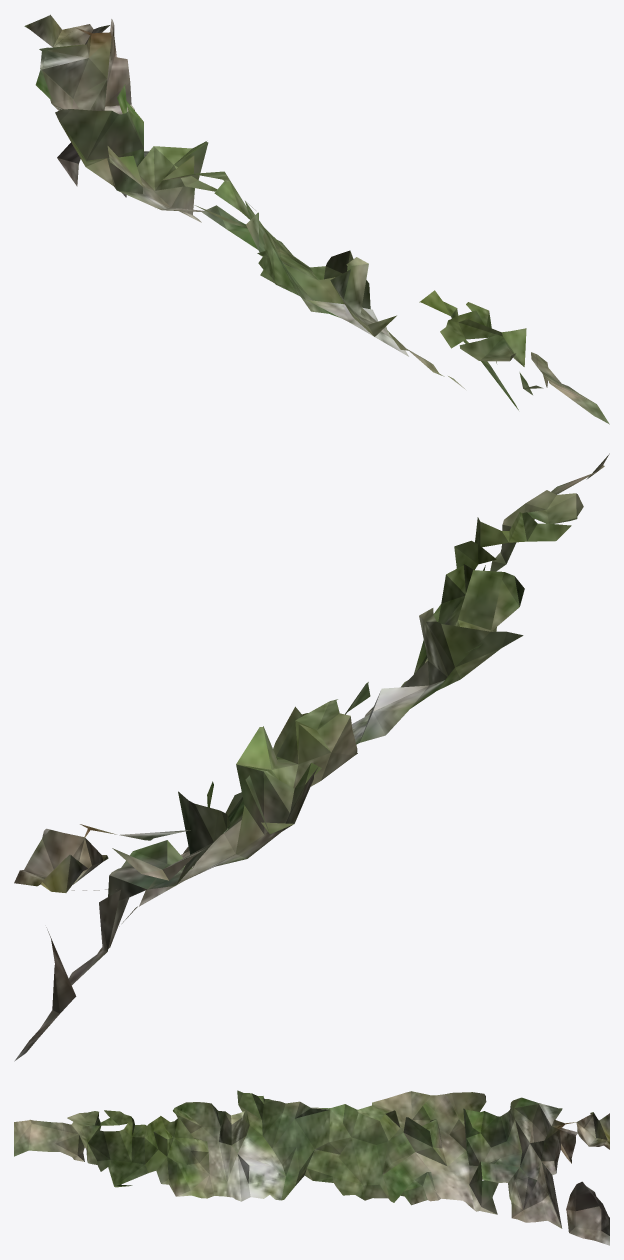
The picture shows the model from 3 angles, top to bottom: view 1: azimuth 30°, elevation 25°; view 2: azimuth 150°, elevation 25°; view 3: azimuth 270°, elevation 25°; orthographic projection. The views are drawn at different scales.
Size of the model in its own units: 1.98 by 2.47 by 11.8.
1 material, 1 textured.
